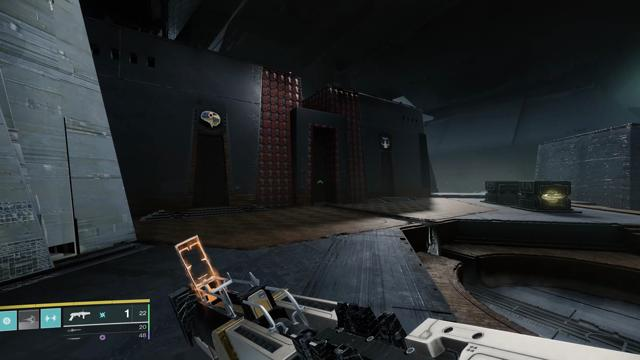brain: (199, 108, 222, 129)
drink: (380, 134, 390, 149)
